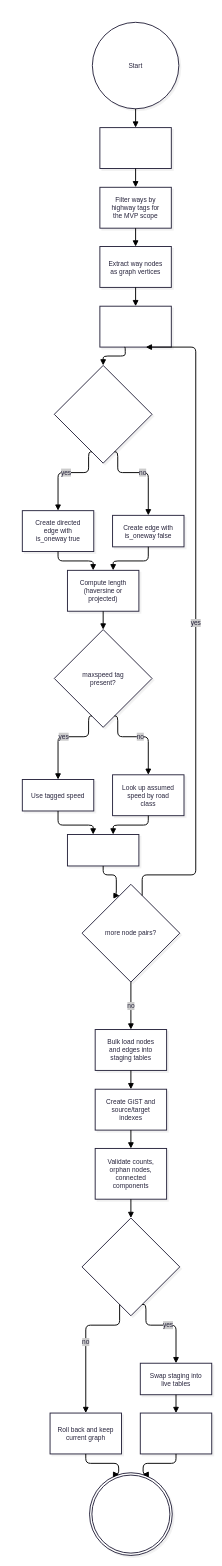
The diagram is 222 pixels wide and 1566 high, and some of its shapes have lost their labels. The shapes that lost their labels are listed below. From the top down, each one's centre as x and y in pixels, then its label:
At point (136, 149): "Download Sri Lanka .osm.pbf from Geofabrik".
At point (136, 327): "Take next pair of consecutive nodes in a way".
At point (104, 415): "oneway tag set?".
At point (104, 851): "Compute travel time".
At point (131, 1267): "validation passed?".
At point (177, 1434): "Signal routing service to reload graph".
At point (131, 1515): "End".
